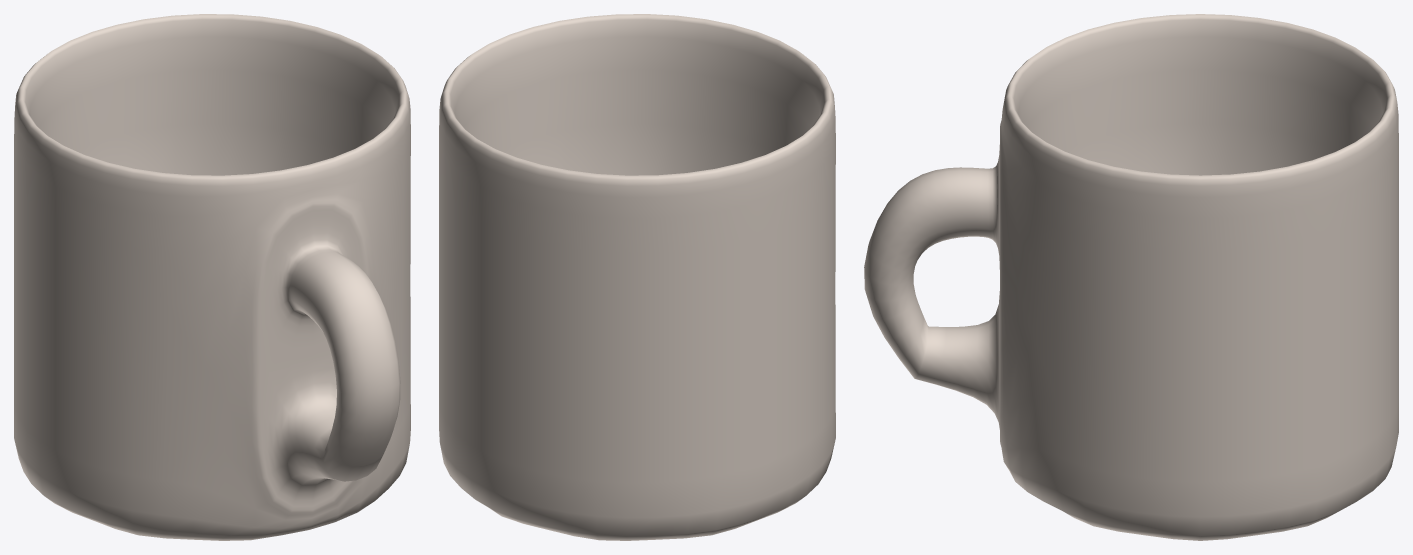
The model's file is mug.fbx.
3 views of the same model, side by side, from view 1: azimuth 30°, elevation 25°; view 2: azimuth 150°, elevation 25°; view 3: azimuth 270°, elevation 25° (orthographic).
Visible parts, largest first — view 1: pCylinder1; view 2: pCylinder1; view 3: pCylinder1.
Boxes of the visible parts, <box> form: pCylinder1: <box>14,14,410,540</box>; pCylinder1: <box>439,14,835,540</box>; pCylinder1: <box>864,14,1398,540</box>.
Bounding box in the file's own units: 5.64 × 5.96 × 7.6.
